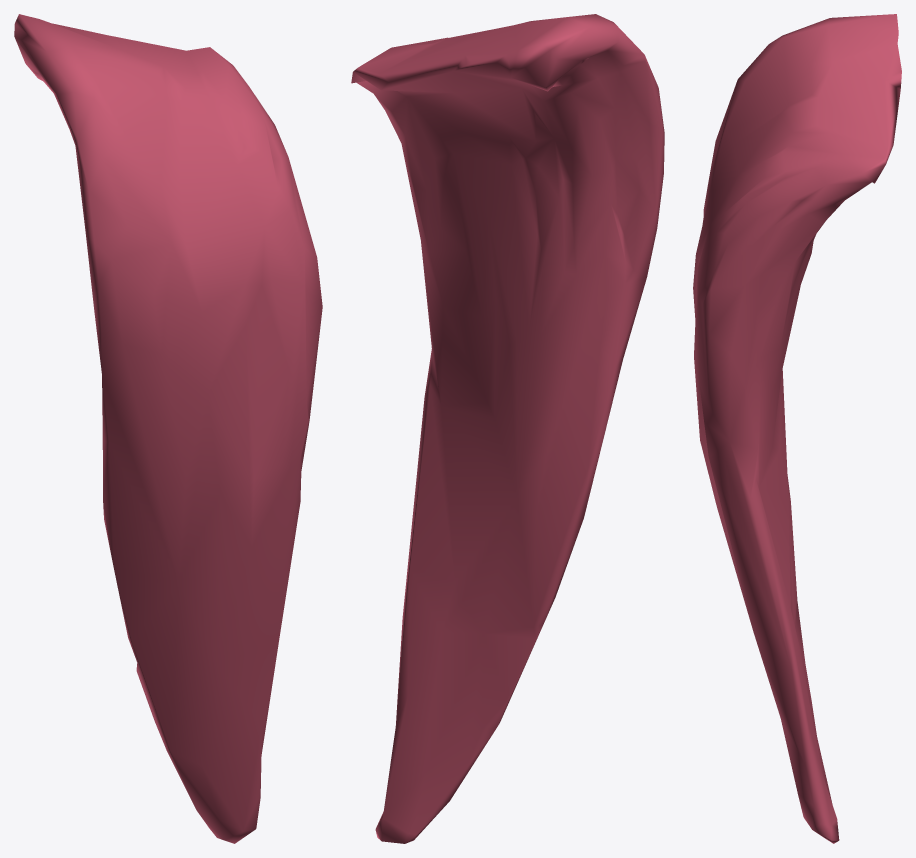
3 renders of one model, left to right at view 1: azimuth 30°, elevation 25°; view 2: azimuth 150°, elevation 25°; view 3: azimuth 270°, elevation 25°, orthographic. The views are drawn at different scales.
Visible parts, largest first — view 1: 右侧颏舌骨肌; view 2: 右侧颏舌骨肌; view 3: 右侧颏舌骨肌.
Boxes of the visible parts, x1=… form: 右侧颏舌骨肌: x1=14, y1=14, x2=322, y2=843; 右侧颏舌骨肌: x1=351, y1=14, x2=664, y2=843; 右侧颏舌骨肌: x1=693, y1=14, x2=901, y2=843.
Size of the model in its own units: 0.0166 by 0.059 by 0.0149.
